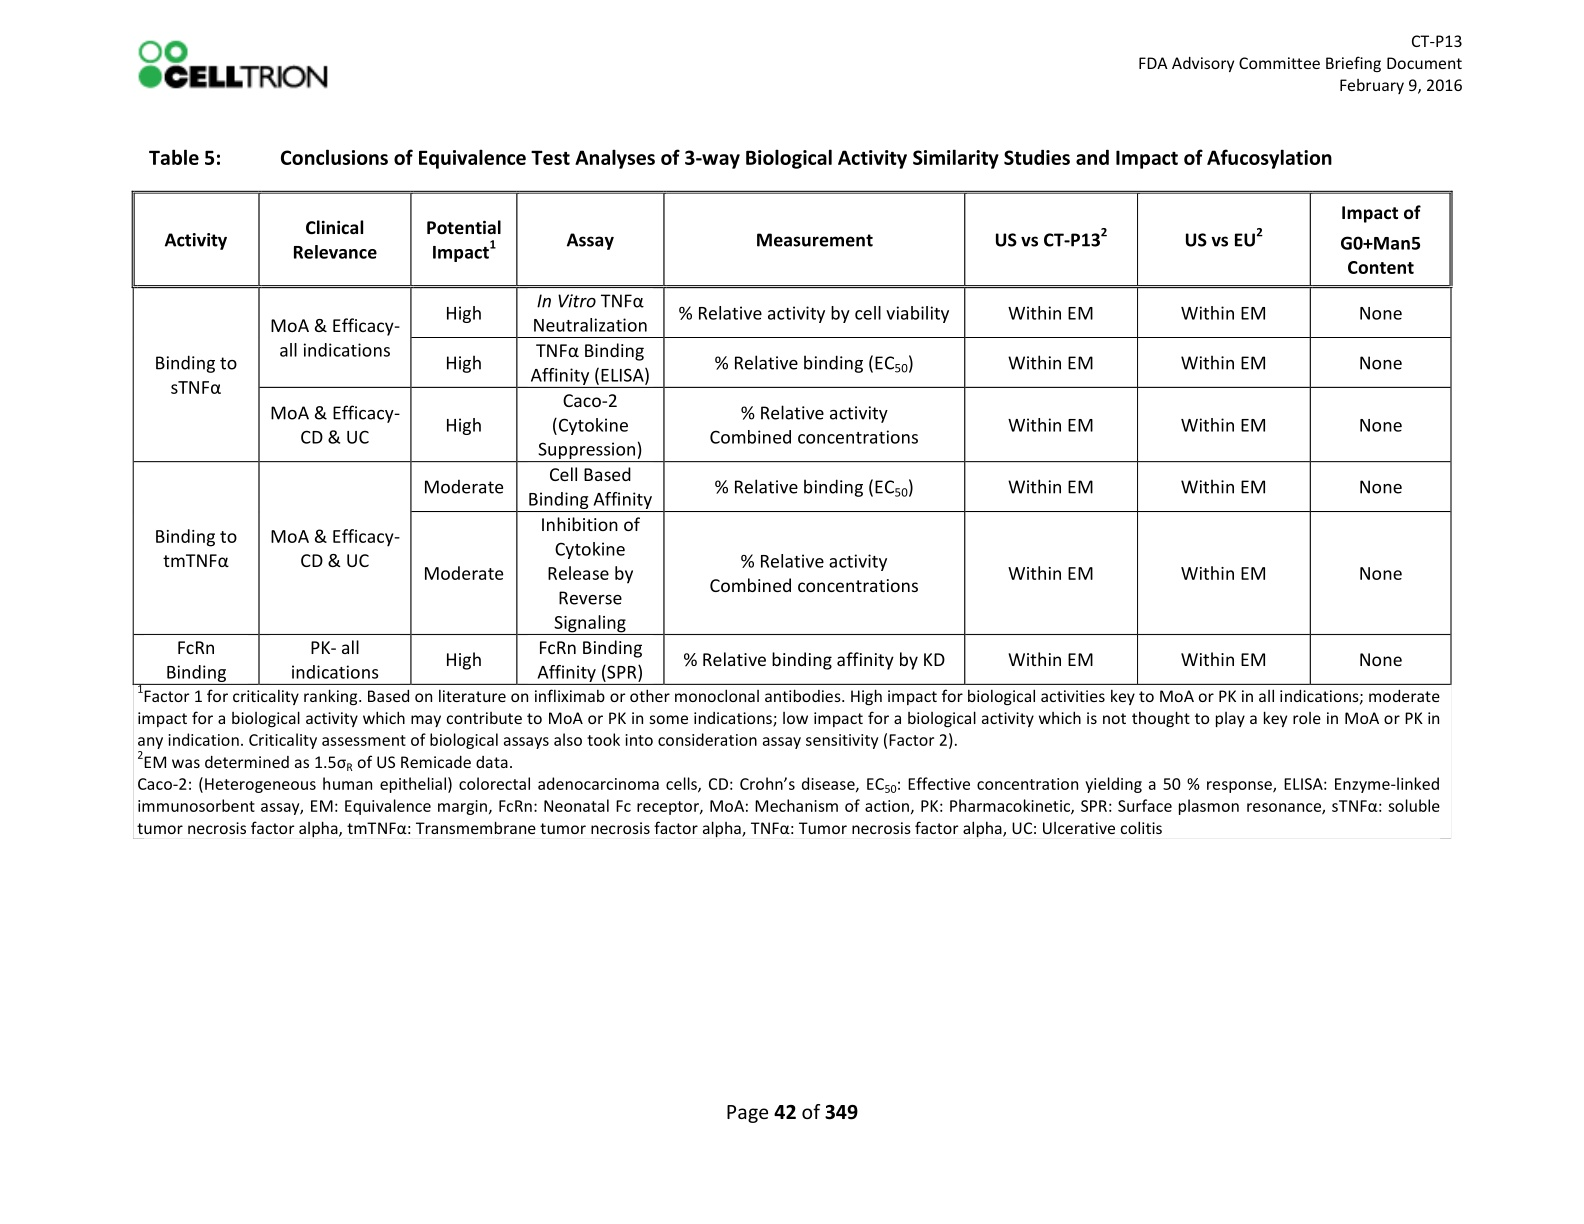merged_cells: (130, 190, 1453, 687)
